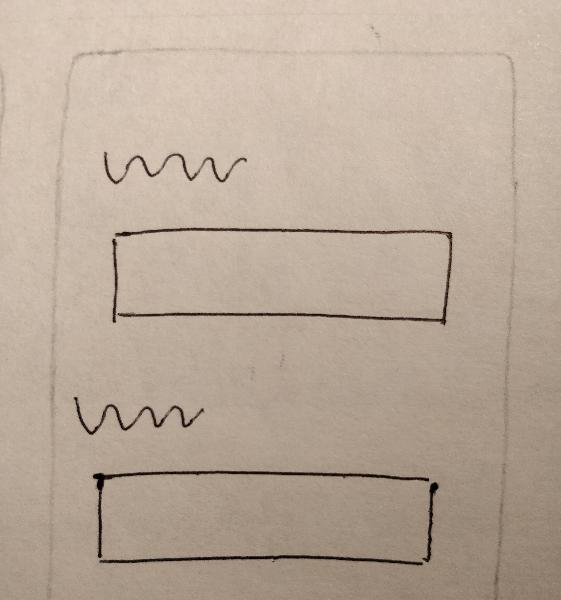text: (95, 136, 255, 194), (68, 386, 209, 441)
text_input: (105, 221, 459, 337), (86, 460, 443, 575)
